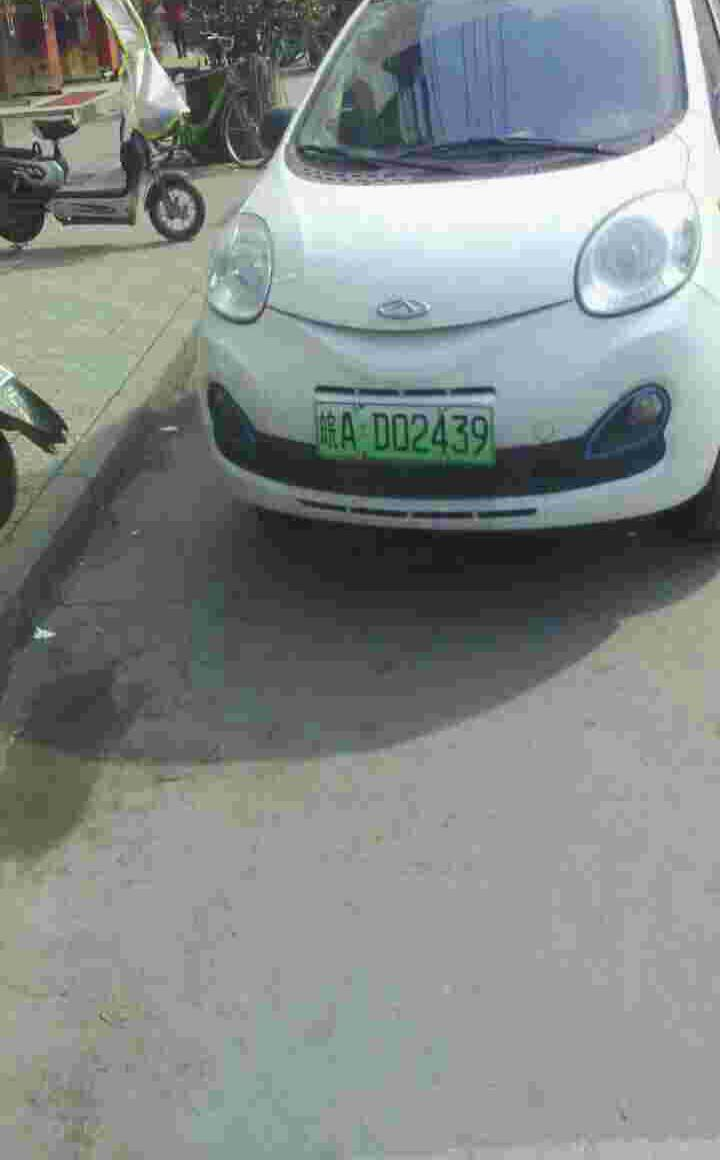car_green: (312, 393, 494, 464)
